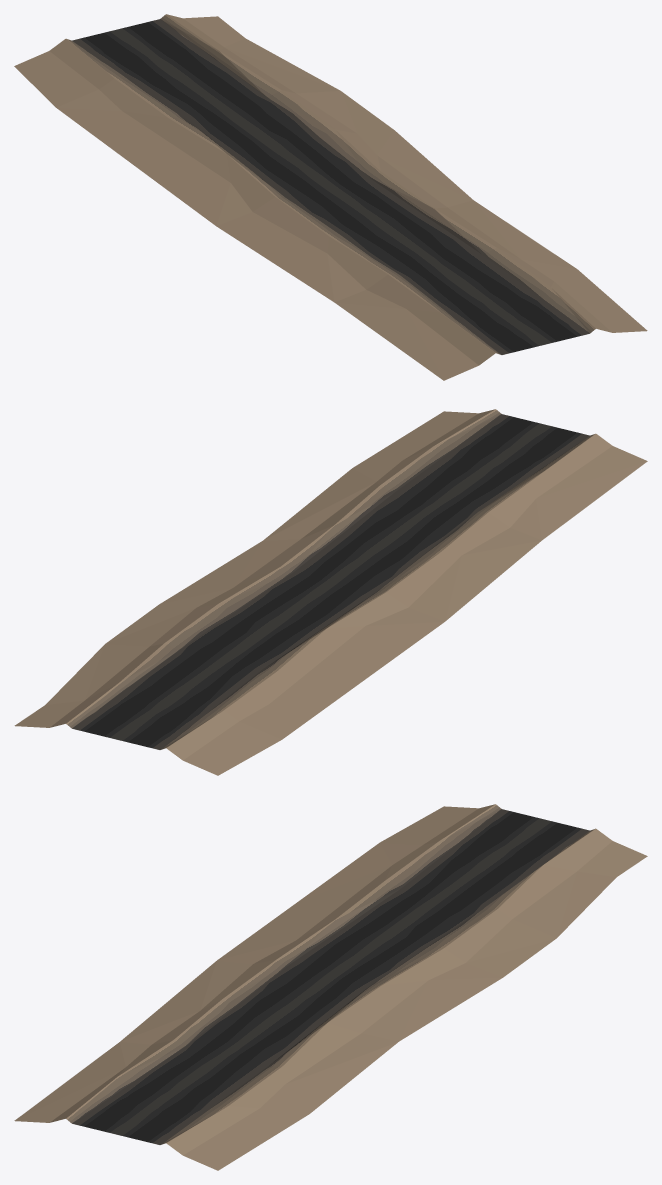
File: SM_Env_Road_01.fbx
The picture shows the model from 3 angles, top to bottom: view 1: azimuth 30°, elevation 25°; view 2: azimuth 150°, elevation 25°; view 3: azimuth 330°, elevation 25°; orthographic projection.
Parts seen in each view (by area): view 1: SM_Env_Road_01; view 2: SM_Env_Road_01; view 3: SM_Env_Road_01.
Part boxes in pixels (x1,y1,x2,y2): SM_Env_Road_01: (14, 14, 647, 380); SM_Env_Road_01: (14, 409, 647, 775); SM_Env_Road_01: (14, 804, 647, 1170).
Bounding box in the file's own units: 1560 × 110 × 5000.
